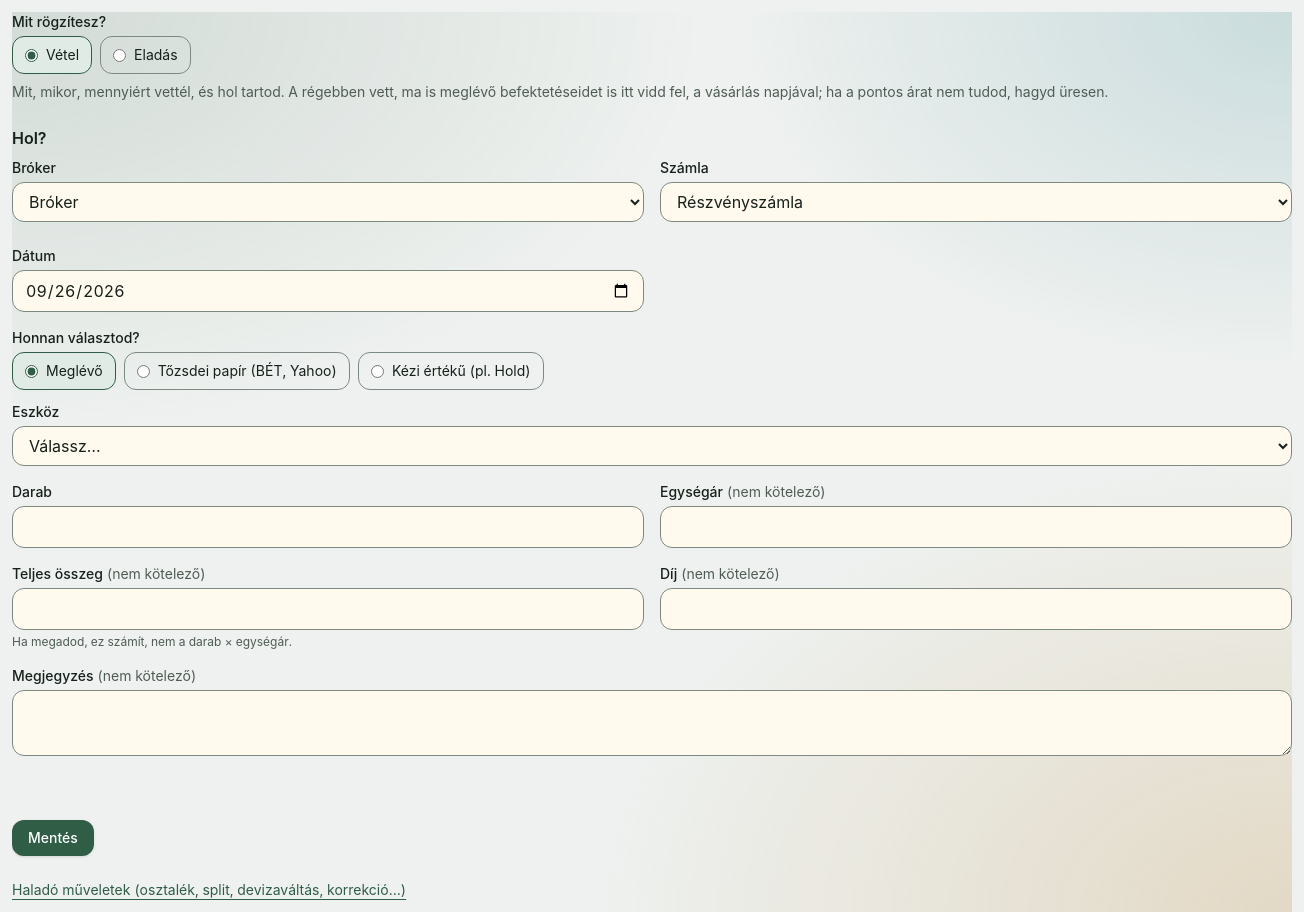
Test case: EntryForm – Vétel and Eladás (4c plan §2, without the Mai állomány tab since 2026-09-27) › after a save the FX rates and prices are refreshed, so the new item counts in the totals at once
The width and height of the screenshot is (1304, 912).
Click the button "Mentés" at (53, 838), box top-left (12, 820), bottom-right (94, 856)
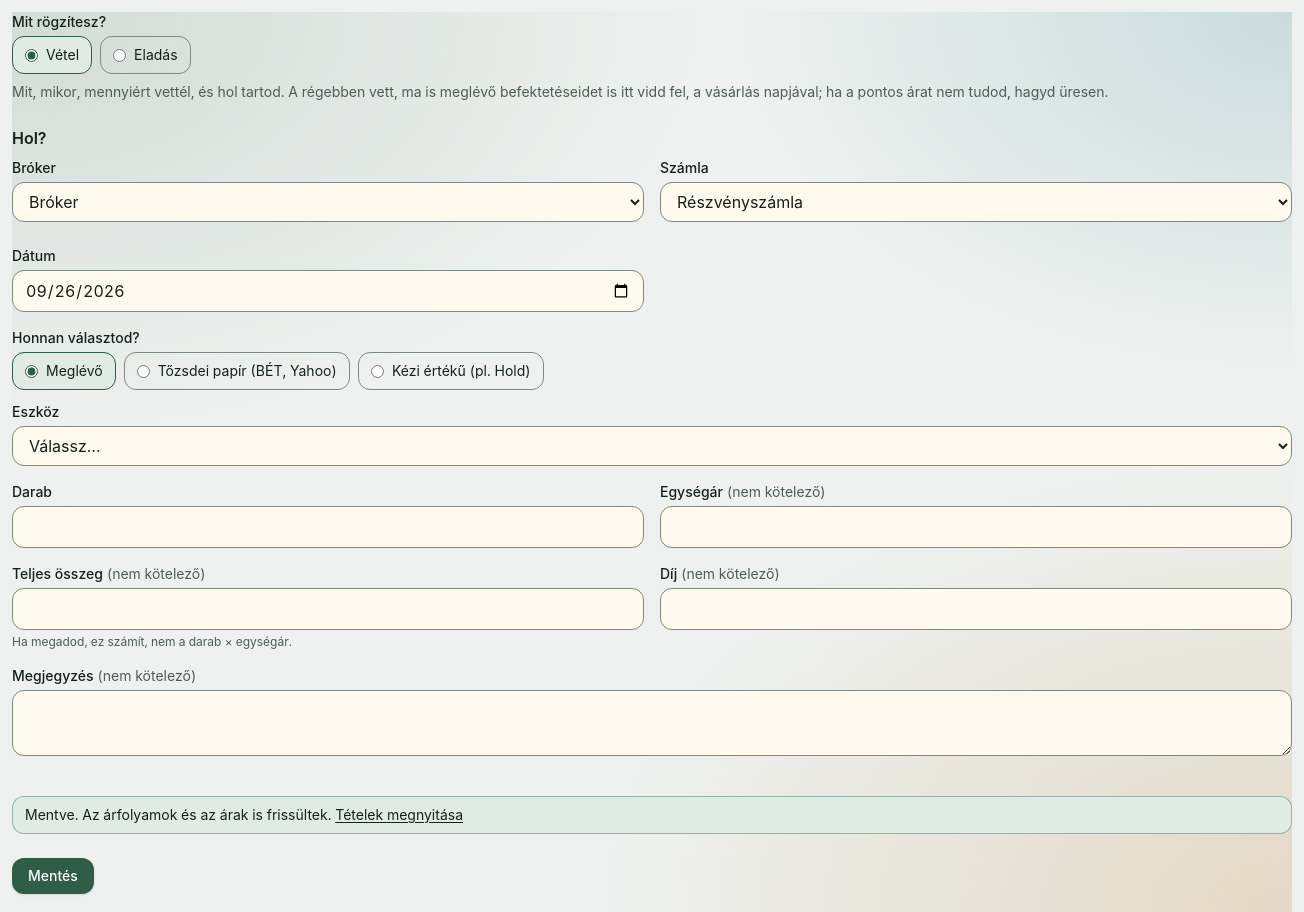
Result: the text "Az árfolyamok és az árak is frissültek." is shown at top-left (82, 806), bottom-right (335, 823)
